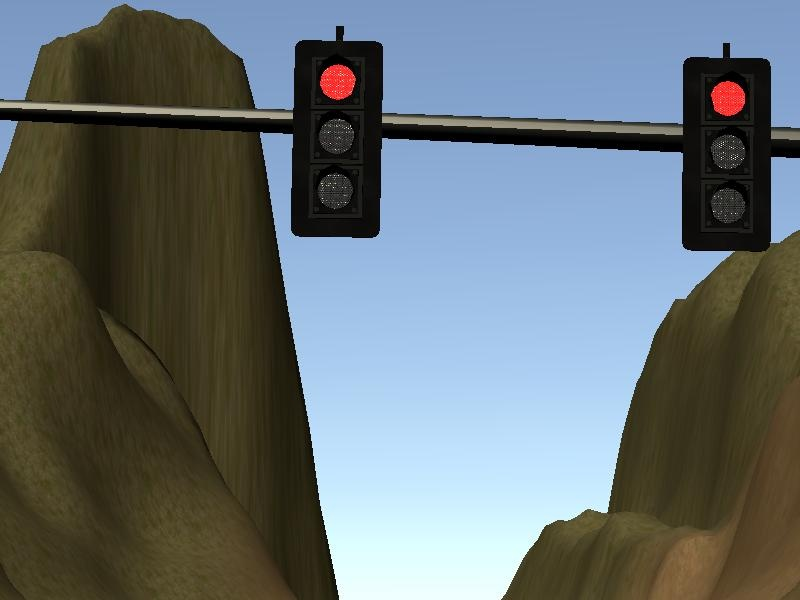RED: (681, 54, 774, 251), (289, 41, 382, 238)
